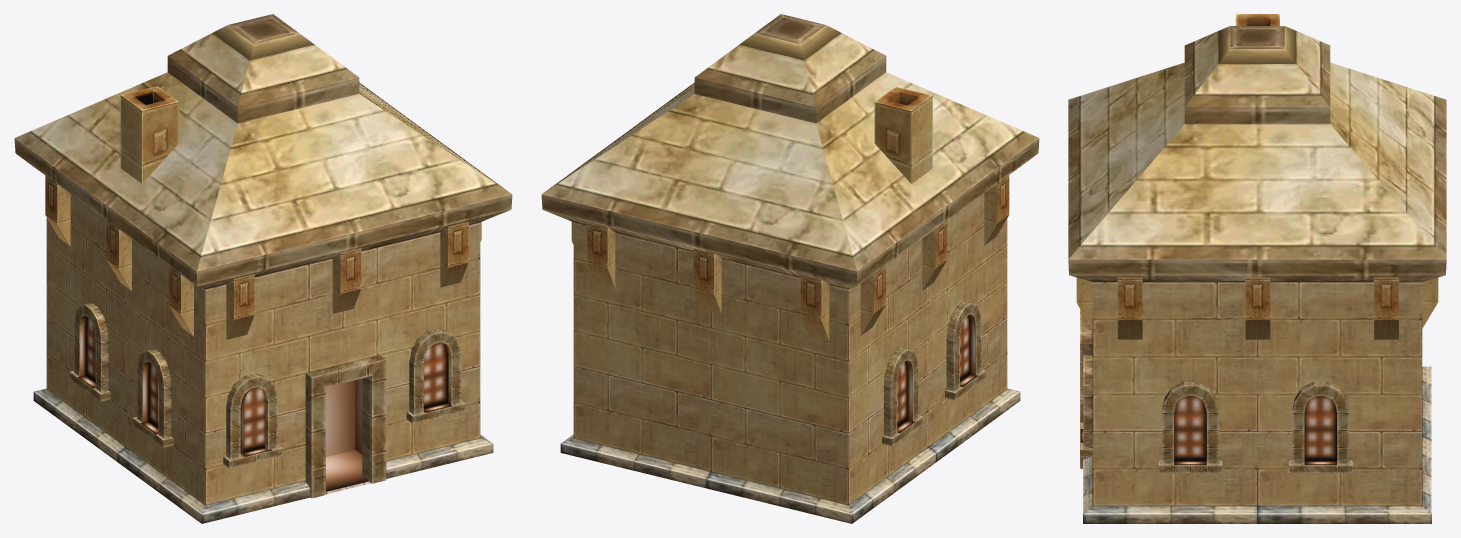
Rendered from DesertTown - house - M1.fbx.
3 renders of one model, left to right at view 1: azimuth 30°, elevation 25°; view 2: azimuth 150°, elevation 25°; view 3: azimuth 270°, elevation 25°, orthographic. The views are drawn at different scales.
Parts seen in each view (by area): view 1: house_M1, lightobj2; view 2: house_M1, lightobj2; view 3: house_M1, lightobj2.
Part boxes in pixels (x1=…): house_M1: x1=14, y1=14, x2=512, y2=523; lightobj2: x1=77, y1=315, x2=451, y2=491; house_M1: x1=541, y1=14, x2=1039, y2=523; lightobj2: x1=897, y1=314, x2=977, y2=433; house_M1: x1=1068, y1=14, x2=1446, y2=523; lightobj2: x1=1080, y1=396, x2=1336, y2=464.
Size of the model in its own units: 5.52 by 6.64 by 5.52.
